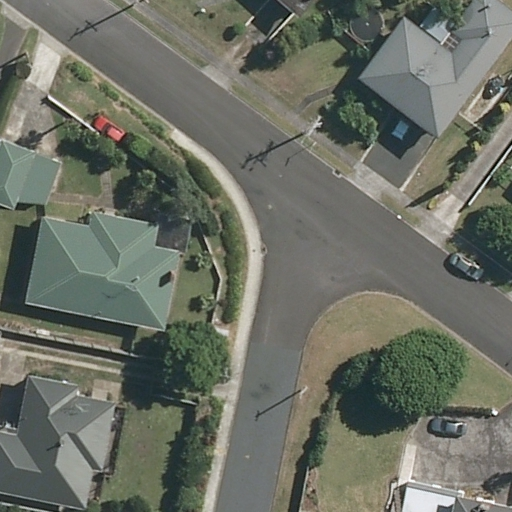DT: (299, 112, 326, 145)
